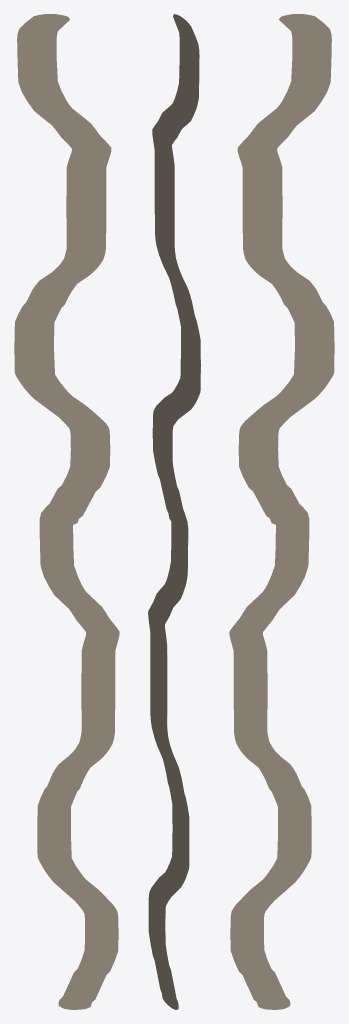
Rendered from Smooth Robo-Snicket (1).glb.
3 views of the same model, side by side, from view 1: azimuth 90°, elevation 25°; view 2: azimuth 210°, elevation 25°; view 3: azimuth 270°, elevation 25° (orthographic).
Parts seen in each view (by area): view 1: Mesh_Mesh_head_geo.001_lambert2SG.001; view 2: Mesh_Mesh_head_geo.001_lambert2SG.001; view 3: Mesh_Mesh_head_geo.001_lambert2SG.001.
Part boxes in pixels (x1,y1,x2,y2): Mesh_Mesh_head_geo.001_lambert2SG.001: [14, 14, 119, 1009]; Mesh_Mesh_head_geo.001_lambert2SG.001: [148, 14, 200, 1009]; Mesh_Mesh_head_geo.001_lambert2SG.001: [229, 14, 334, 1009].
Bounding box in the file's own units: 1e-05 × 0.1925 × 0.0184.
